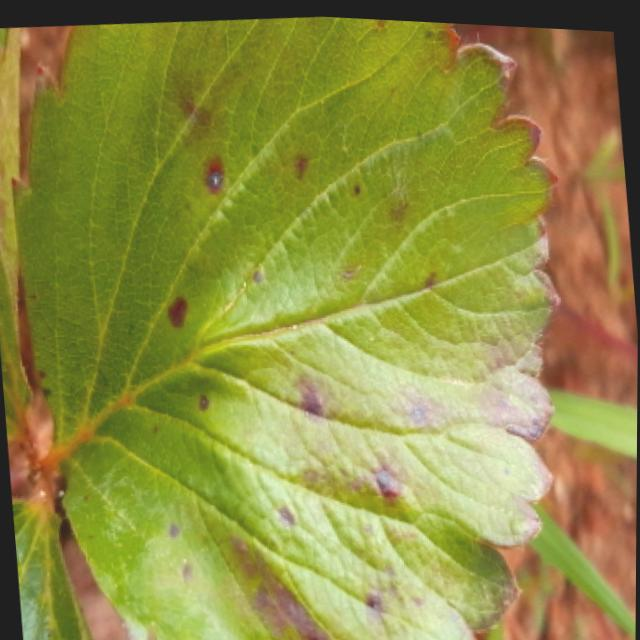Leaf Spot: (9, 12, 565, 640)
